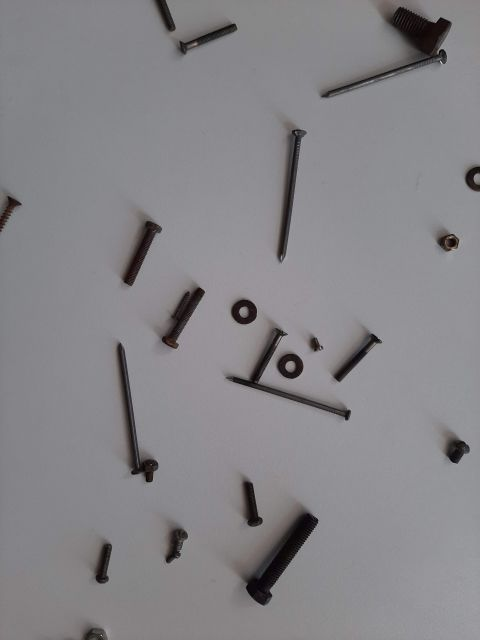gwozdz: (215, 365, 355, 425), (305, 35, 445, 95), (95, 325, 135, 475), (275, 105, 305, 275)
nakretka: (415, 215, 475, 265)
podkladka: (215, 275, 275, 325), (275, 325, 305, 385)
sruba: (235, 505, 335, 615), (155, 5, 265, 65), (135, 275, 215, 355), (95, 215, 155, 305), (325, 325, 385, 385), (235, 325, 295, 385), (215, 475, 275, 535), (415, 425, 475, 475), (155, 505, 185, 565), (125, 445, 175, 475)
